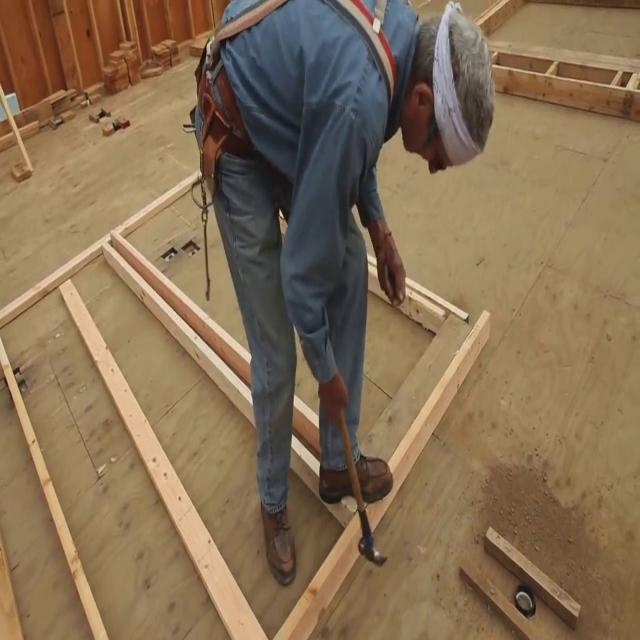hammer: (335, 404, 388, 566)
